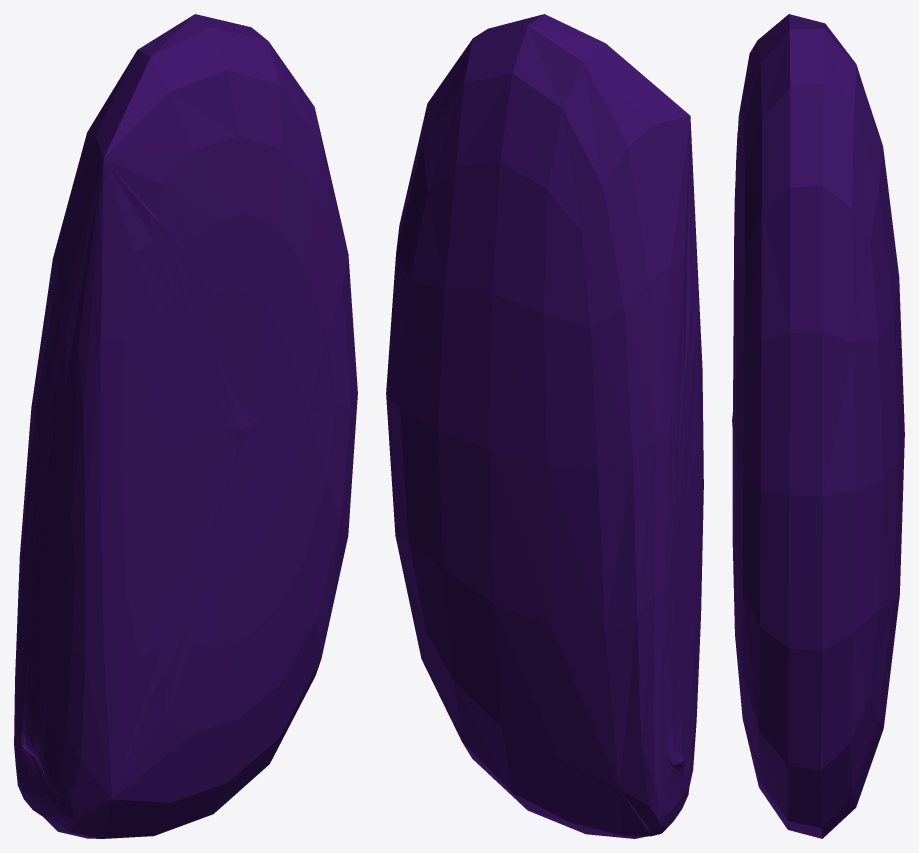
3 views of the same model, side by side, from view 1: azimuth 30°, elevation 25°; view 2: azimuth 150°, elevation 25°; view 3: azimuth 270°, elevation 25° (orthographic). The views are drawn at different scales.
Parts seen in each view (by area): view 1: 492_Cube.1996; view 2: 492_Cube.1996; view 3: 492_Cube.1996.
Part boxes in pixels (left/top/right/bottom): 492_Cube.1996: left=14, top=14, right=357, bottom=838; 492_Cube.1996: left=386, top=14, right=703, bottom=838; 492_Cube.1996: left=732, top=14, right=904, bottom=838.
Bounding box in the file's own units: 4.42 × 11.14 × 2.13.
